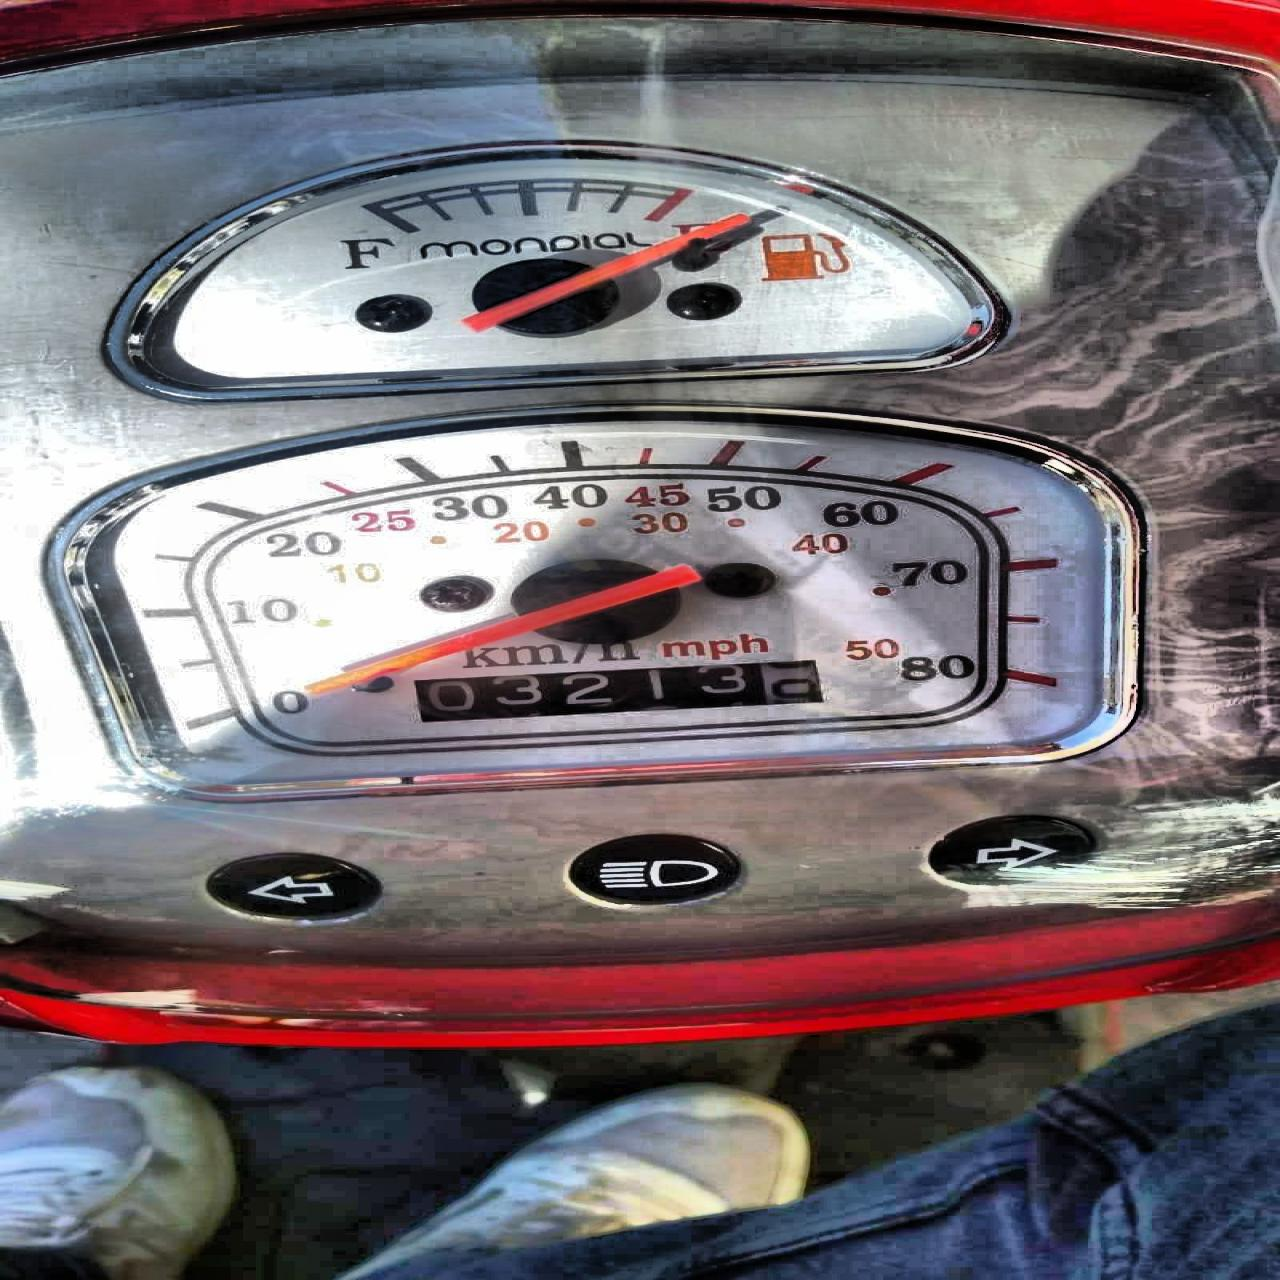0: (425, 679, 474, 712)
1: (644, 669, 666, 700)
2: (560, 672, 613, 704)
3: (488, 673, 543, 704), (694, 662, 745, 693)
9: (768, 678, 818, 704)
odometer: (410, 659, 824, 722)
